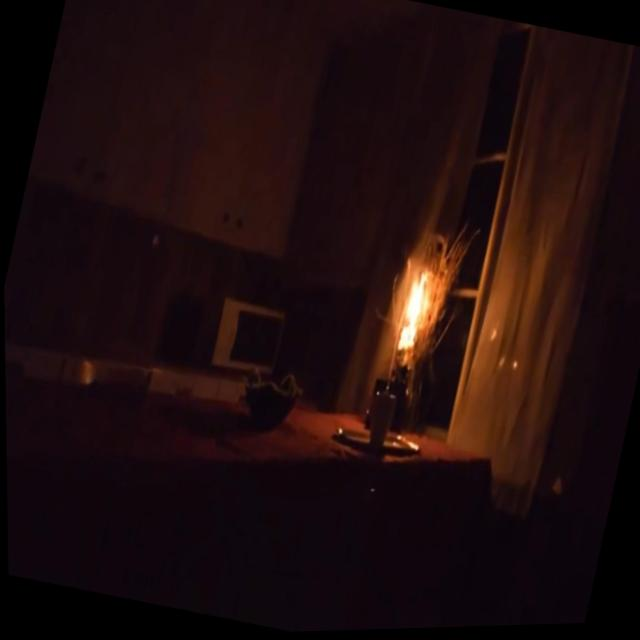fire: (383, 259, 438, 367)
